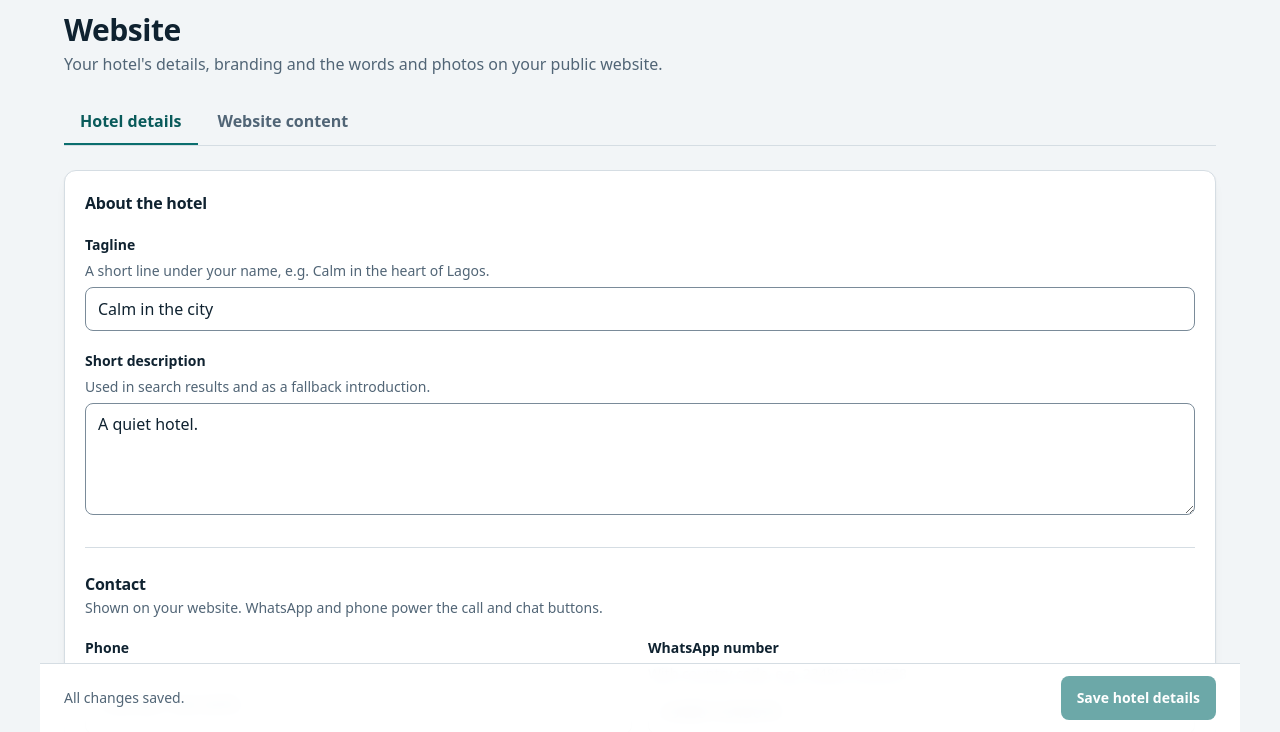
Test: hotel details form › shows the server's message if saving fails
Type "!" into the field labelled "Tagline" at point(640, 309), box x1=85 y1=287 x2=1195 y2=331
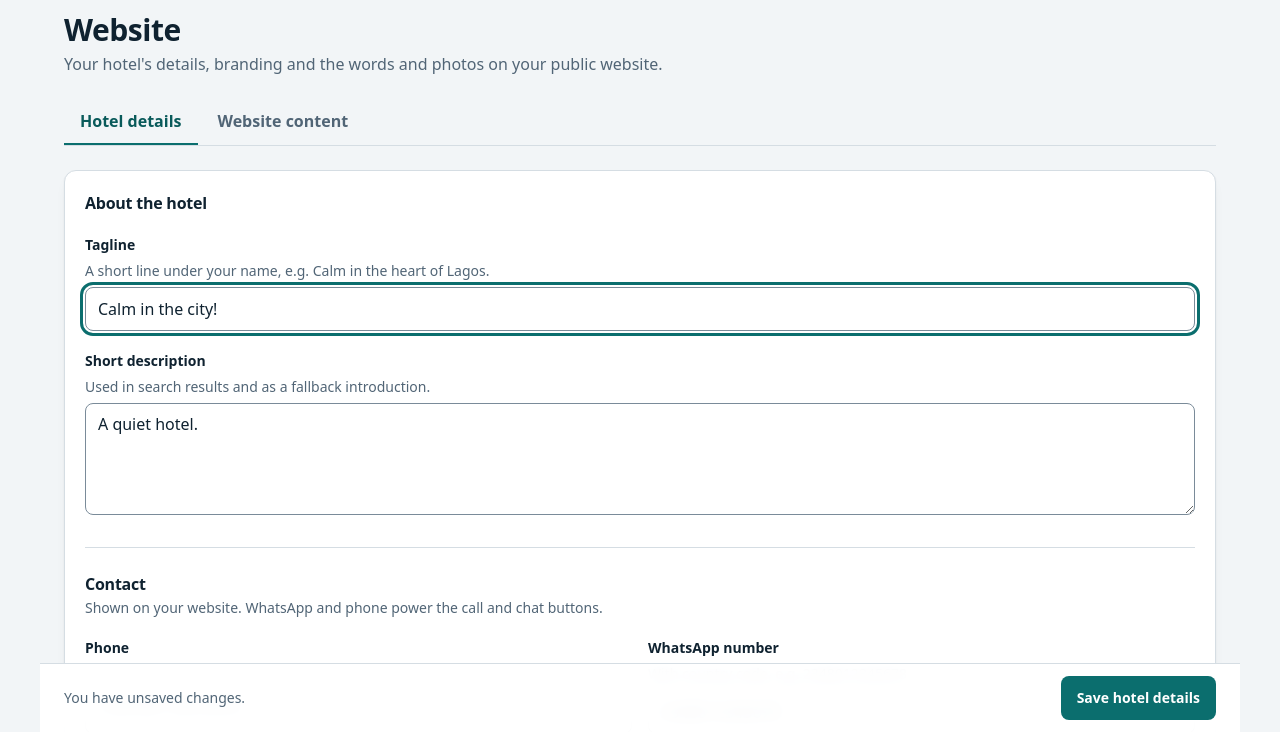
Click the button "Save hotel details" at point(1138, 698), box x1=1061 y1=676 x2=1216 y2=720
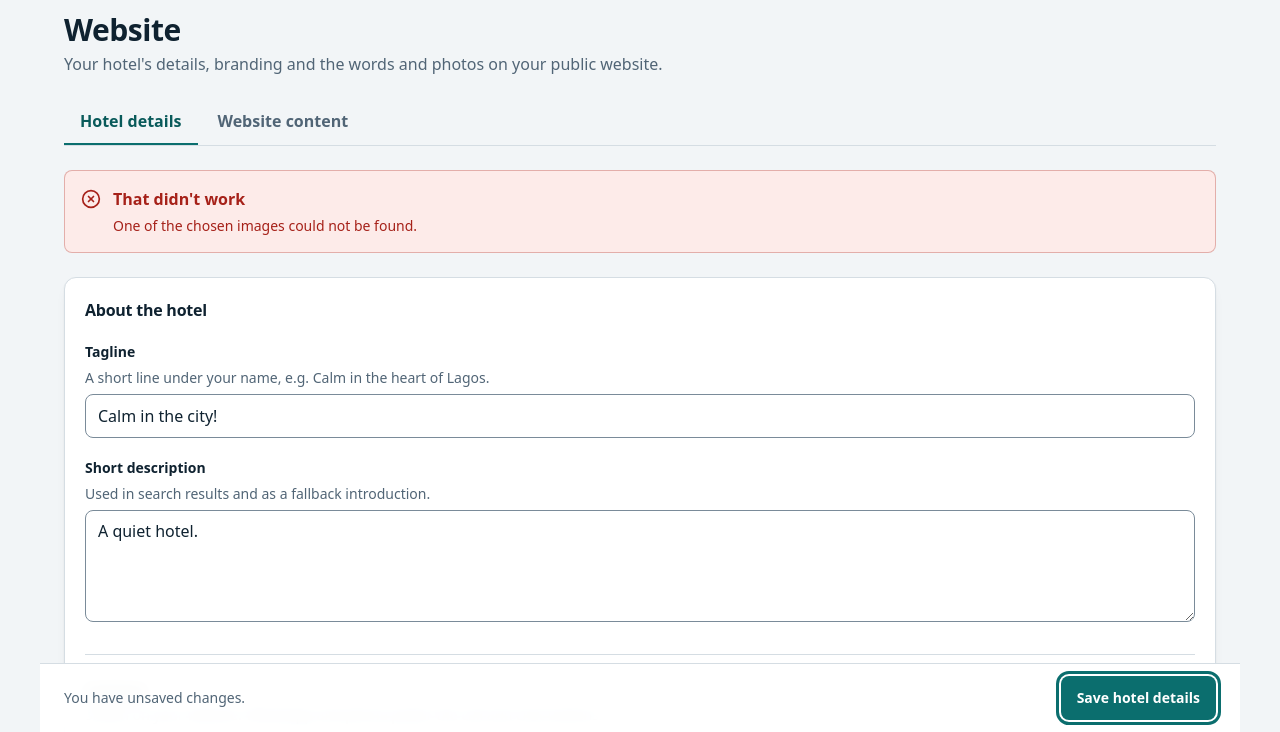
Result: the text "One of the chosen images could not be found." is shown at x1=113 y1=216 x2=417 y2=236
